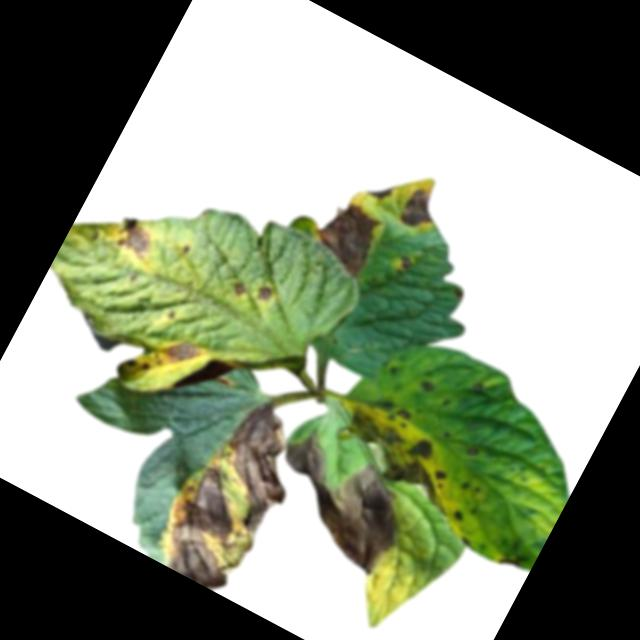Early_blight: (145, 385, 319, 599), (251, 426, 423, 580), (328, 389, 475, 514), (306, 194, 386, 280), (109, 215, 160, 265), (396, 185, 444, 238), (156, 327, 205, 377), (365, 176, 395, 206), (252, 282, 277, 307), (495, 551, 522, 574), (392, 254, 412, 277), (228, 279, 248, 300), (418, 379, 435, 395), (449, 509, 464, 524)
